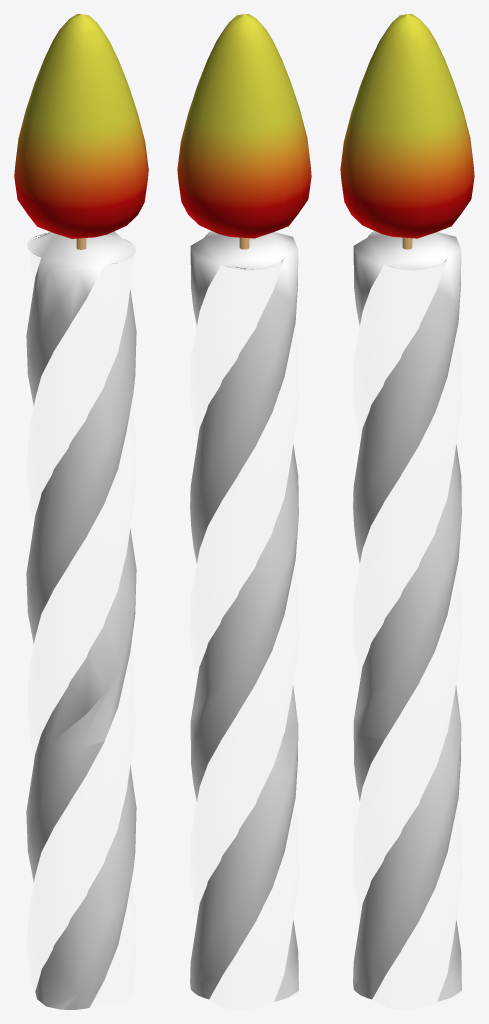
Rendered from candle_straight_1 (1).glb.
The picture shows the model from 3 angles, left to right: view 1: azimuth 30°, elevation 25°; view 2: azimuth 150°, elevation 25°; view 3: azimuth 330°, elevation 25°; orthographic projection.
Parts seen in each view (by area): view 1: color_candle.001, fire_candle.001; view 2: color_candle.001, fire_candle.001; view 3: color_candle.001, fire_candle.001.
Boxes of the visible parts, x1,y1,x2,y2 form: color_candle.001: (26, 231, 136, 1009); fire_candle.001: (14, 14, 148, 238); color_candle.001: (189, 230, 299, 1009); fire_candle.001: (177, 14, 311, 238); color_candle.001: (352, 230, 462, 1009); fire_candle.001: (340, 14, 474, 238).
Size of the model in its own units: 0.1569 by 1.26 by 0.1569.
Materials: 1 (1 with a texture image).
